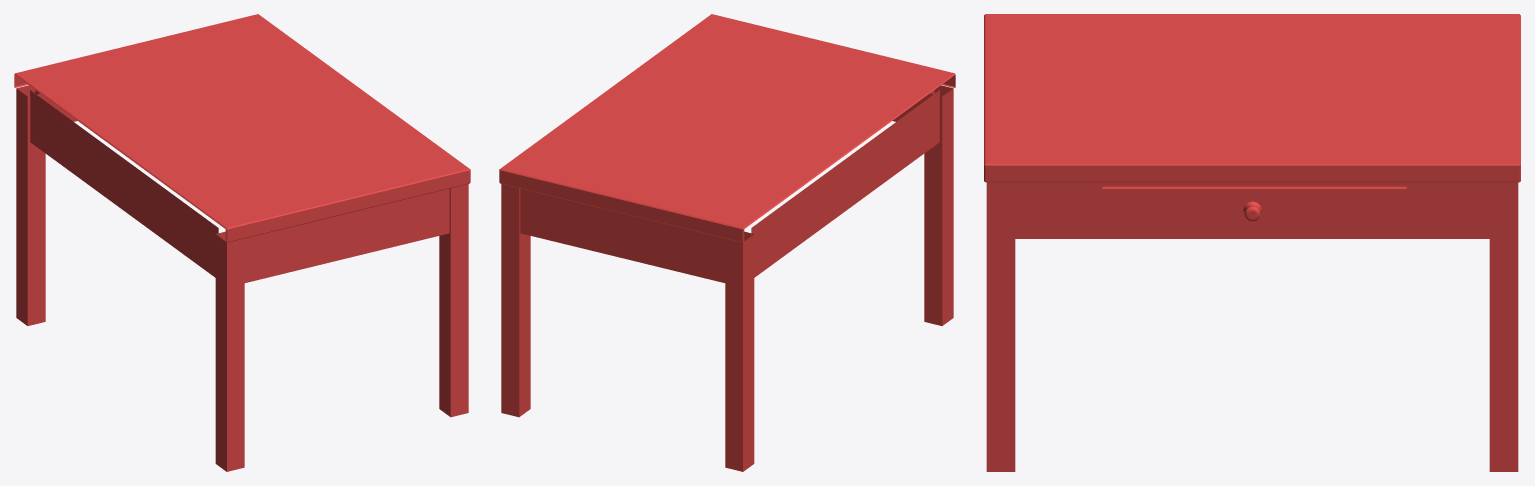
The model's file is G_Table_03.fbx.
The picture shows the model from 3 angles, left to right: view 1: azimuth 30°, elevation 25°; view 2: azimuth 150°, elevation 25°; view 3: azimuth 270°, elevation 25°; orthographic projection. The views are drawn at different scales.
Parts seen in each view (by area): view 1: table.001; view 2: table.001; view 3: table.001.
Boxes of the visible parts, box(x1,y1,x2,y2) form: table.001: box(14, 14, 470, 471); table.001: box(499, 14, 955, 471); table.001: box(984, 14, 1520, 471).
Size of the model in its own units: 1086 by 1003 by 1580.
